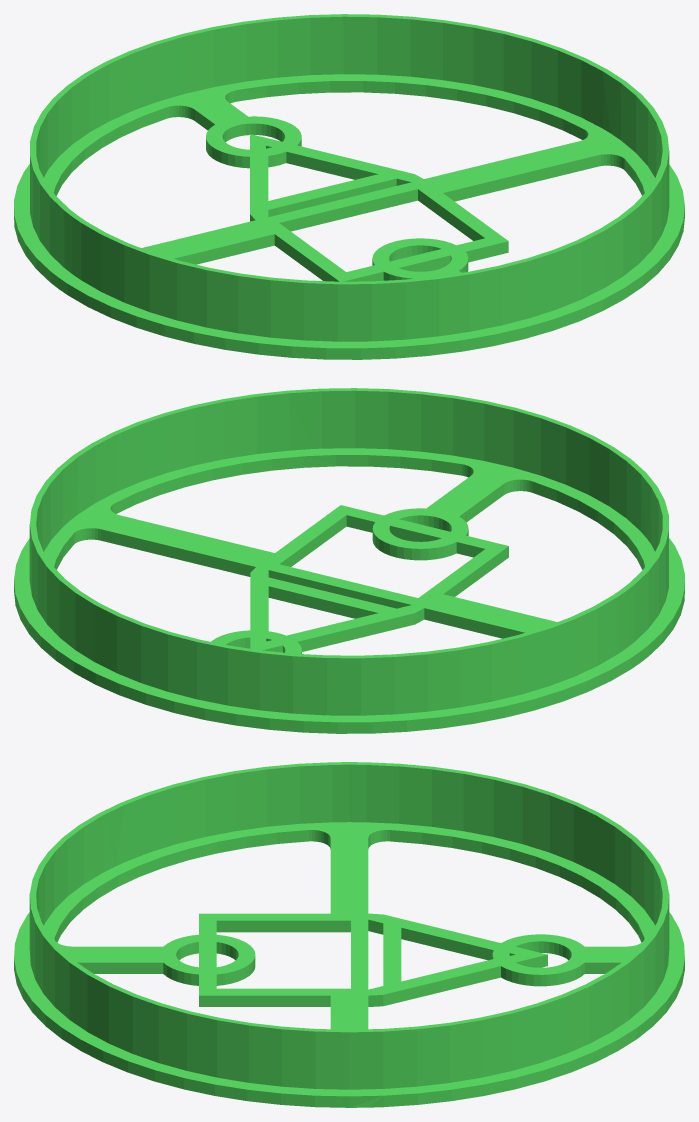
File: sumbol_squid_game.glb
3 views of the same model, one above another, from view 1: azimuth 30°, elevation 25°; view 2: azimuth 150°, elevation 25°; view 3: azimuth 270°, elevation 25° (orthographic).
Parts seen in each view (by area): view 1: obj1; view 2: obj1; view 3: obj1.
Boxes of the visible parts, bbox=[...] form: obj1: bbox=[14, 14, 684, 359]; obj1: bbox=[14, 388, 684, 733]; obj1: bbox=[14, 762, 684, 1107].
Bounding box in the file's own units: 106 × 12 × 106.
